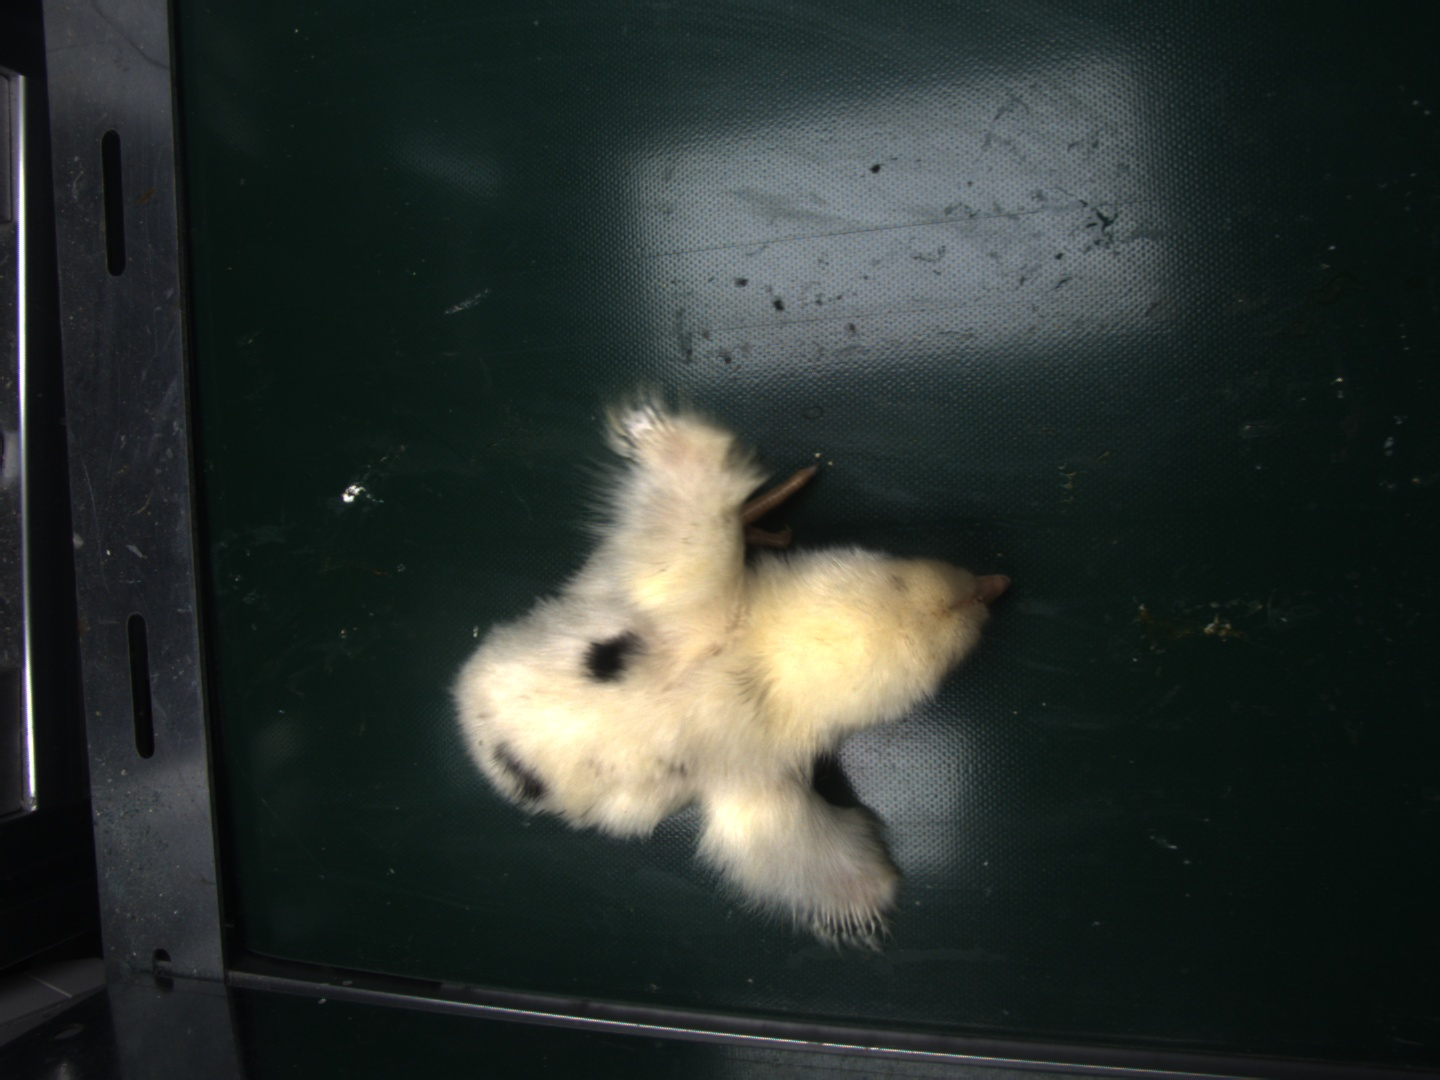male: (814, 893, 883, 940)
